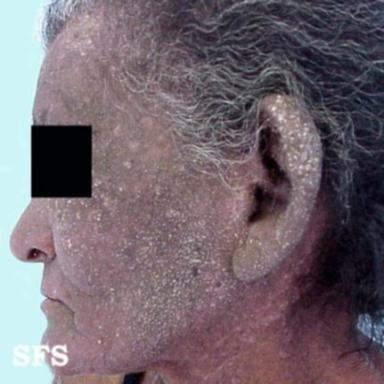Darier_s-Disease: (10, 17, 320, 384)
